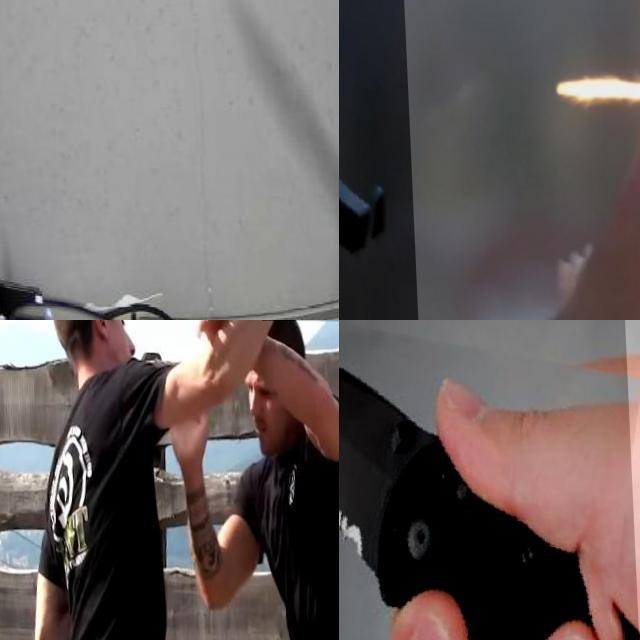-: (339, 320, 639, 640), (187, 0, 339, 105), (256, 320, 339, 382)
gun-knife-thesis - v11 Yolov5 augmented: (339, 0, 476, 320)
